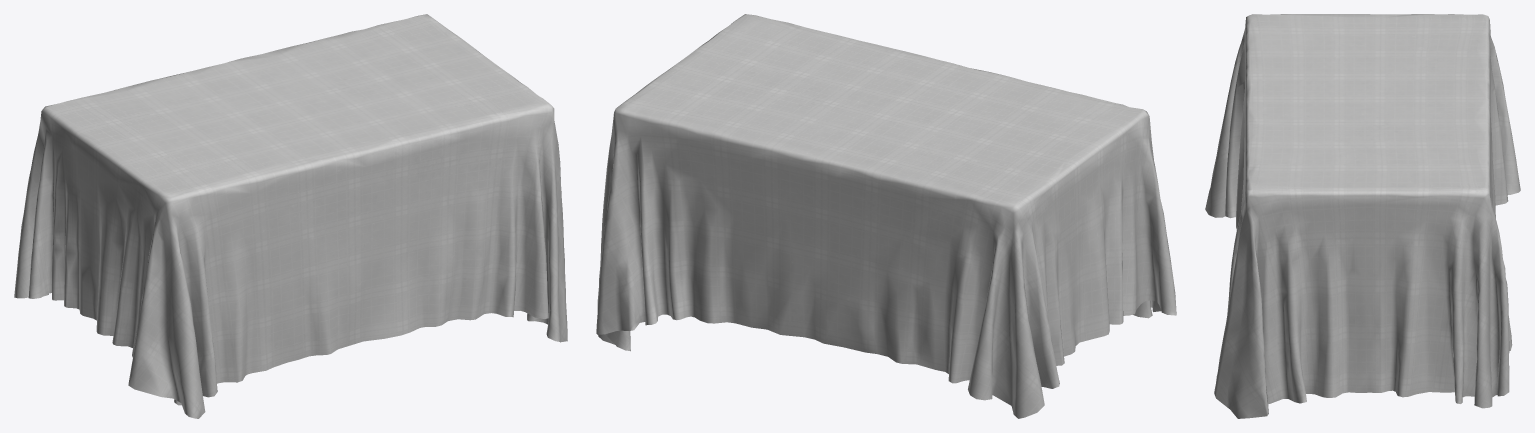
Rendered from table2.glb.
3 renders of one model, left to right at view 1: azimuth 30°, elevation 25°; view 2: azimuth 150°, elevation 25°; view 3: azimuth 270°, elevation 25°, orthographic. The views are drawn at different scales.
Visible parts, largest first — view 1: Object_2; view 2: Object_2; view 3: Object_2.
Part boxes in pixels (x1=…): Object_2: x1=14, y1=14, x2=567, y2=418; Object_2: x1=596, y1=14, x2=1176, y2=418; Object_2: x1=1205, y1=14, x2=1520, y2=418.
Size of the model in its own units: 1.6 by 0.8109 by 1.04.
Materials: 1 (1 with a texture image).
